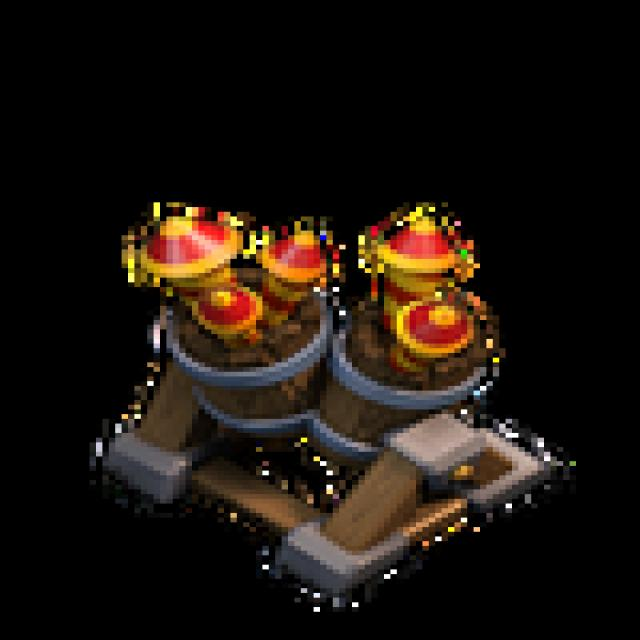air_defense: (61, 176, 588, 604)
